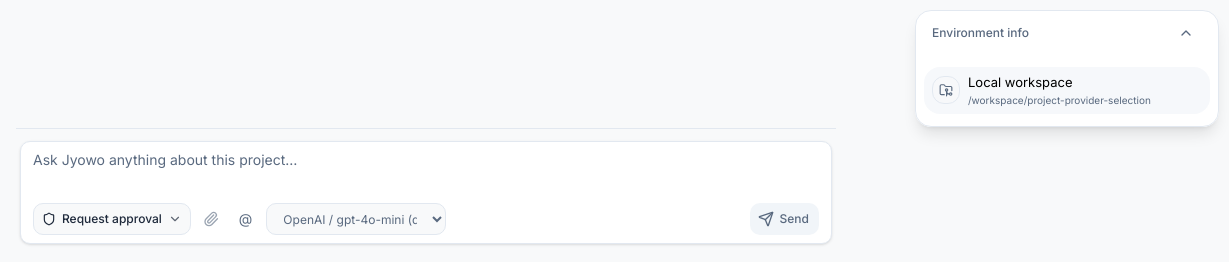
Test: TaskWorkspace › uses project provider capability until the task explicitly overrides it
The width and height of the screenshot is (1229, 262).
Expected: the button named "Attach file" is disabled, x1=197 y1=205 x2=225 y2=233
Select "OpenAI / gpt-4o-mini" in the dropdown named "Model": [356, 219] box x1=266 y1=203 x2=446 y2=235
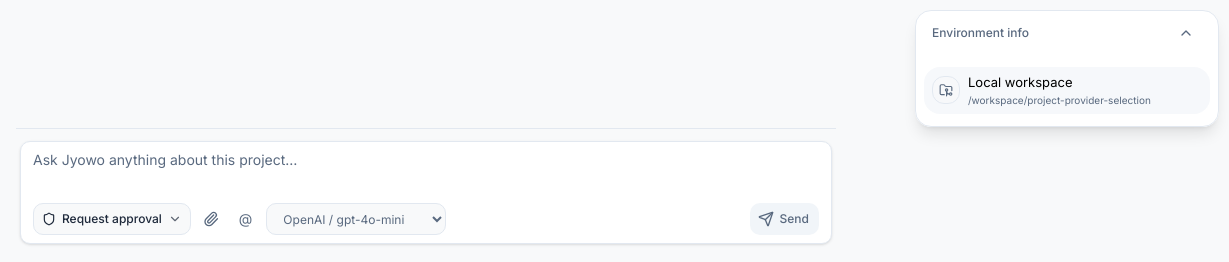
Now the button named "Attach file" is enabled, box x1=197 y1=205 x2=225 y2=233
